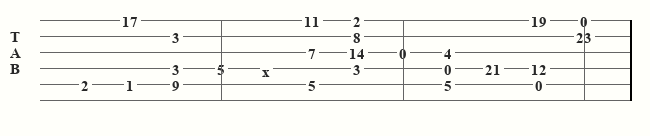0: (399, 45, 411, 59), (444, 61, 456, 75), (535, 77, 547, 91), (580, 13, 592, 27)
1: (126, 77, 138, 91)
11: (304, 13, 324, 27)
12: (531, 61, 551, 75)
14: (349, 45, 369, 59)
17: (122, 13, 142, 27)
19: (531, 13, 551, 27)
2: (81, 77, 93, 91), (353, 13, 365, 27)
21: (485, 61, 505, 75)
23: (576, 29, 596, 43)
3: (172, 61, 184, 75), (172, 29, 184, 43), (353, 61, 365, 75)
4: (444, 45, 456, 59)
5: (217, 61, 229, 75), (308, 77, 320, 91), (444, 77, 456, 91)
7: (308, 45, 320, 59)
8: (353, 29, 365, 43)
9: (172, 77, 184, 91)
x: (262, 63, 274, 74)
